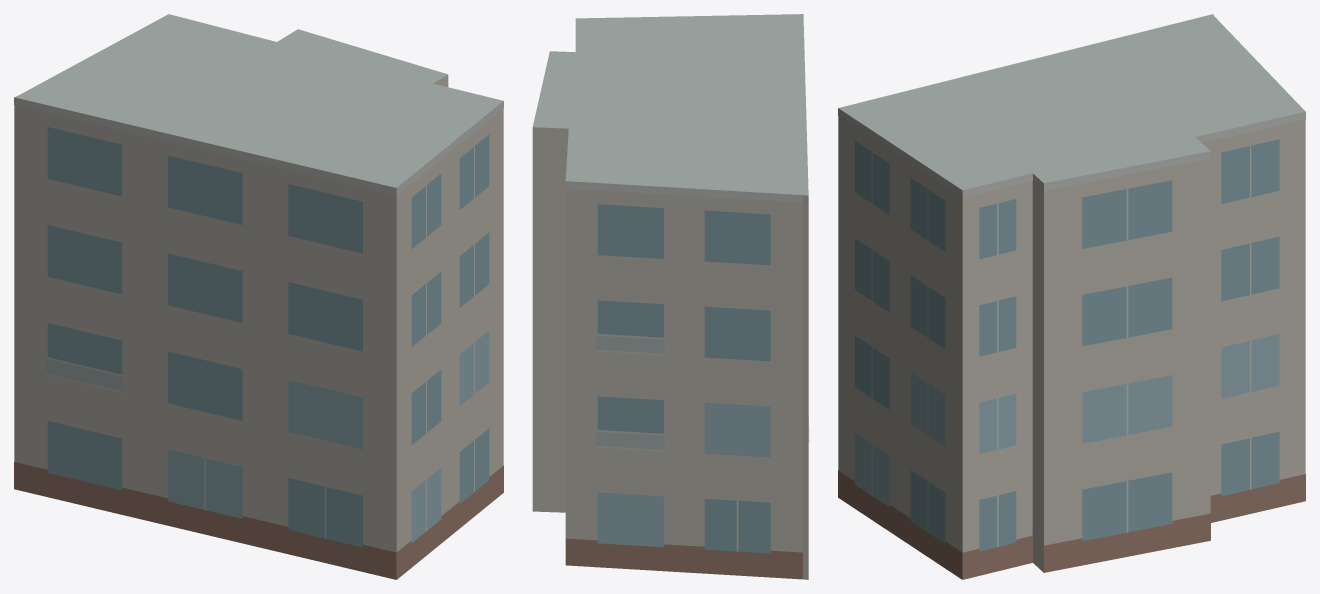
The model's file is survey-upis-32506475.glb.
3 views of the same model, side by side, from view 1: azimuth 30°, elevation 25°; view 2: azimuth 150°, elevation 25°; view 3: azimuth 270°, elevation 25° (orthographic).
Parts seen in each view (by area): view 1: survey-upis-32506475.tmp; view 2: survey-upis-32506475.tmp; view 3: survey-upis-32506475.tmp.
Boxes of the visible parts, x1=… form: survey-upis-32506475.tmp: x1=14, y1=14, x2=503, y2=579; survey-upis-32506475.tmp: x1=532, y1=14, x2=809, y2=579; survey-upis-32506475.tmp: x1=838, y1=14, x2=1305, y2=579.
Size of the model in its own units: 12.14 by 12.5 by 13.61.
